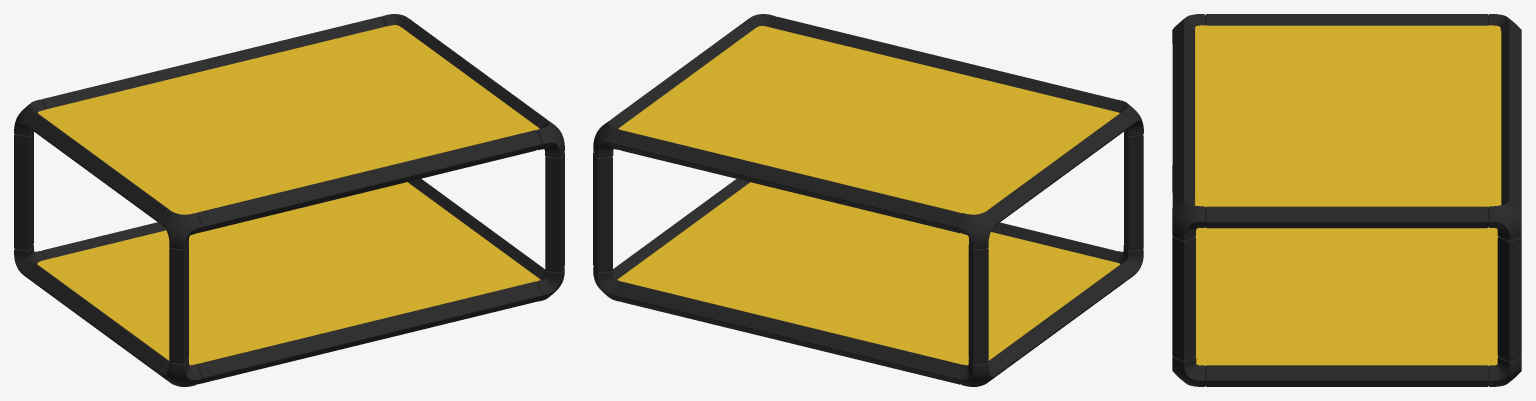
3 renders of one model, left to right at view 1: azimuth 30°, elevation 25°; view 2: azimuth 150°, elevation 25°; view 3: azimuth 270°, elevation 25°, orthographic. The views are drawn at different scales.
Visible parts, largest first — view 1: 479x329x154; view 2: 479x329x154; view 3: 479x329x154.
Boxes of the visible parts, x1,y1,x2,y2 form: 479x329x154: [14, 14, 564, 386]; 479x329x154: [593, 14, 1143, 386]; 479x329x154: [1172, 14, 1521, 386].
Bounding box in the file's own units: 0.5567 × 0.2317 × 0.4063.
